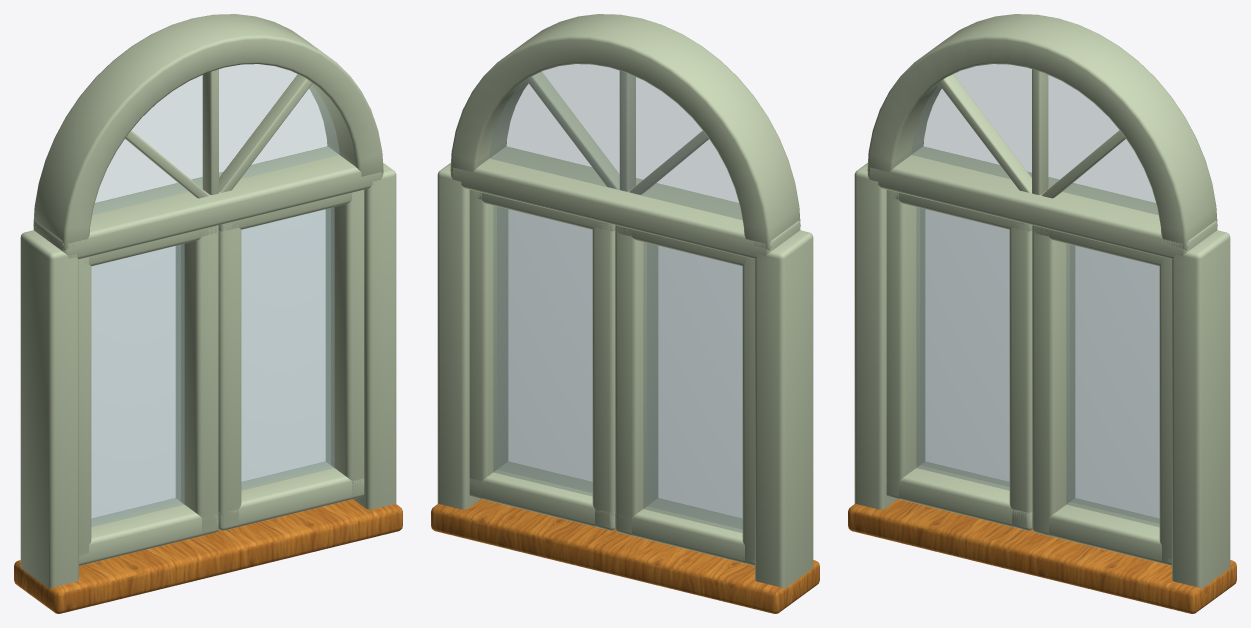
Rendered from window-arched.glb.
3 views of the same model, side by side, from view 1: azimuth 30°, elevation 25°; view 2: azimuth 150°, elevation 25°; view 3: azimuth 330°, elevation 25° (orthographic).
Visible parts, largest first — view 1: window-arched; view 2: window-arched; view 3: window-arched.
Boxes of the visible parts, x1,y1,x2,y2 form: window-arched: [14, 14, 402, 613]; window-arched: [431, 14, 819, 613]; window-arched: [848, 14, 1236, 613].
Size of the model in its own units: 1 by 1.45 by 0.22.
Materials: 3 (1 with a texture image).
